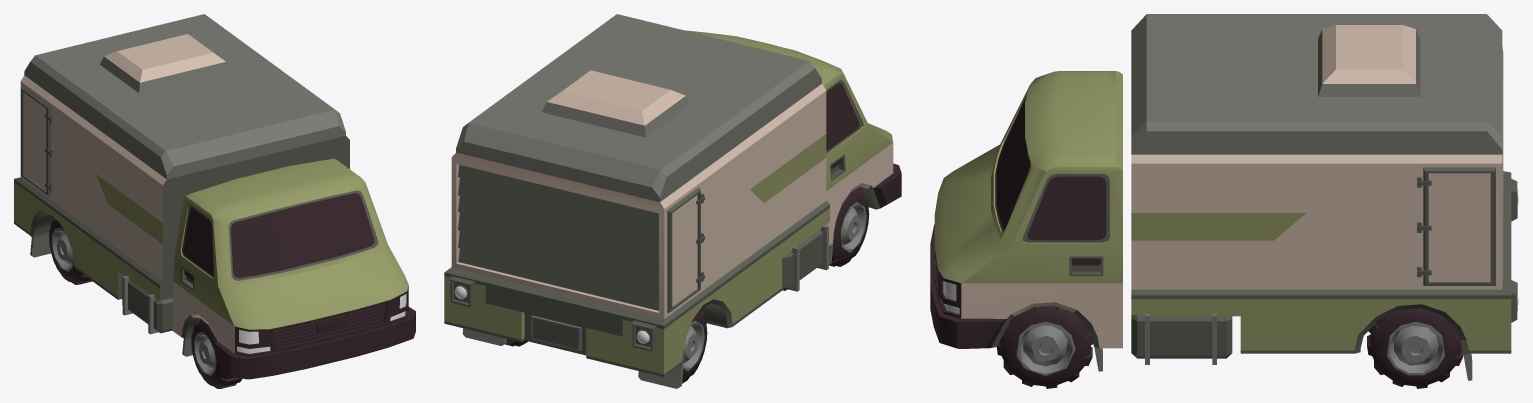
Rendered from prop_vehicle_truck.glb.
The picture shows the model from 3 angles, left to right: view 1: azimuth 30°, elevation 25°; view 2: azimuth 150°, elevation 25°; view 3: azimuth 270°, elevation 25°; orthographic projection. The views are drawn at different scales.
Parts seen in each view (by area): view 1: Truck, FrontWheel_R, BackWheels; view 2: Truck, FrontWheel_R, BackWheels; view 3: Truck, FrontWheel_L, BackWheels.
Boxes of the visible parts, x1,y1,x2,y2 form: Truck: (14,14,415,379); FrontWheel_R: (191,318,241,388); BackWheels: (49,218,92,284); Truck: (444,14,901,388); FrontWheel_R: (829,187,869,266); BackWheels: (505,309,707,383); Truck: (930,14,1518,380); FrontWheel_L: (996,305,1093,388); BackWheels: (1367,308,1463,388).
Size of the model in its own units: 2.71 by 2.88 by 5.26.
Materials: 2 (1 with a texture image).
